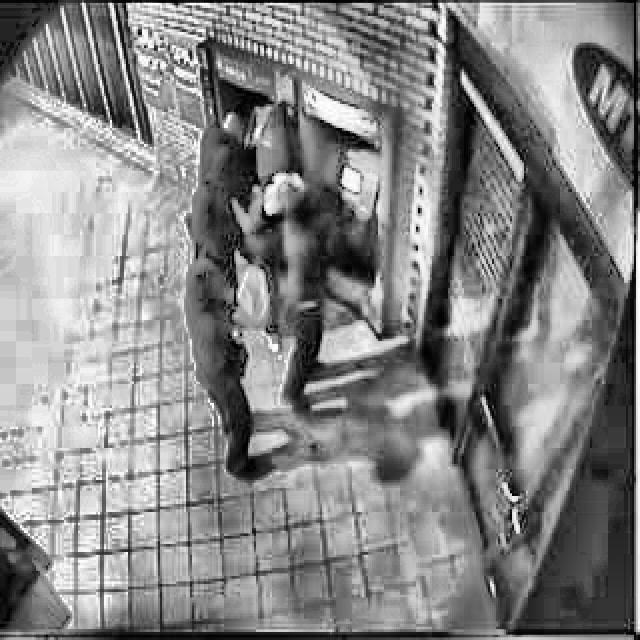burglary: (178, 90, 382, 418)
